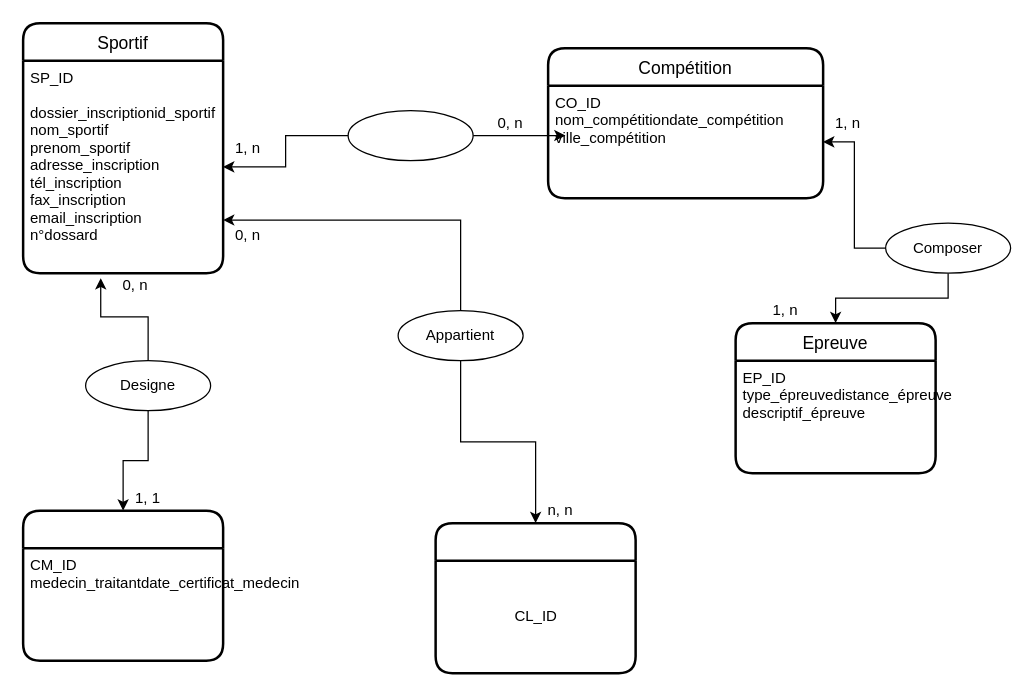
Some shapes in this 1033 by 695 pixel diagram are drawn without their labels. The box of each missing label's shape, as (x1, y1, x2, y2) in pixels:
Certificat médical: (21, 509, 224, 661)
Club: (434, 521, 636, 674)
Inscription: (347, 109, 473, 161)
